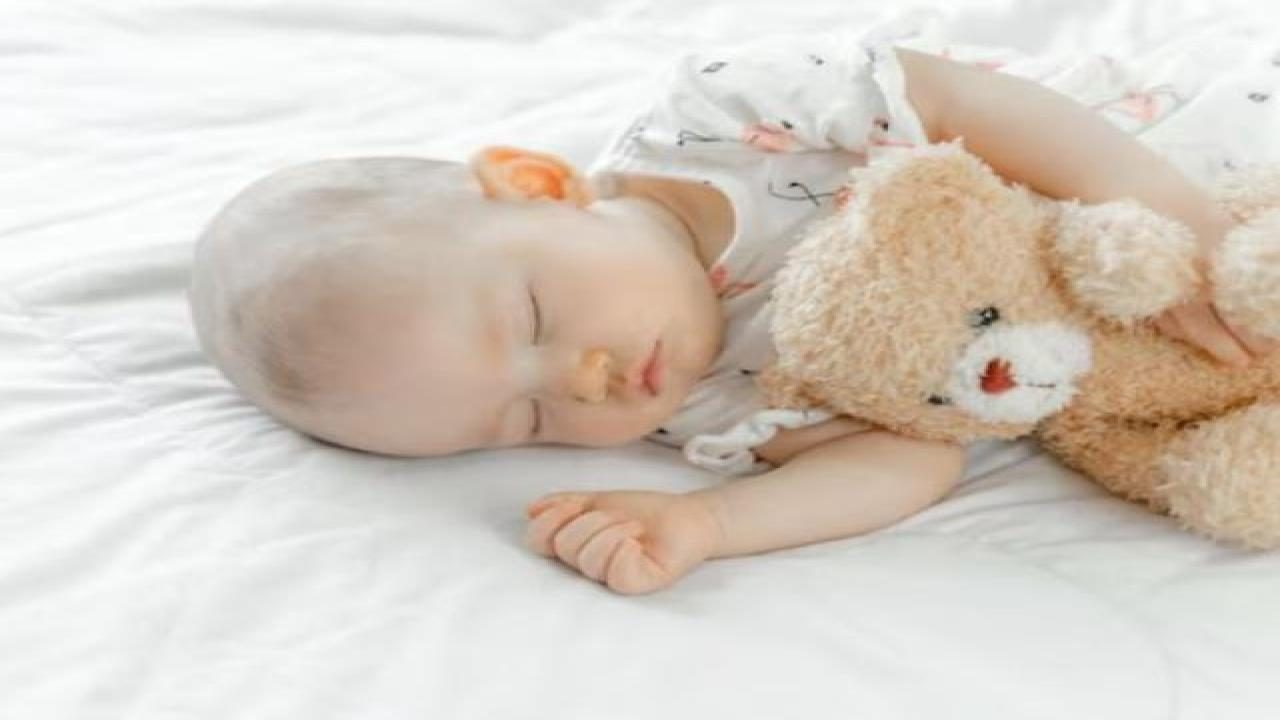hand: (534, 490, 717, 595)
